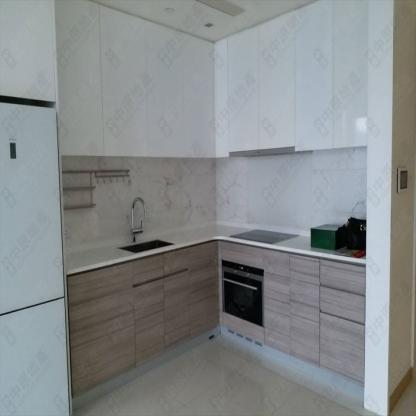Cupboard: (57, 0, 369, 156), (66, 240, 220, 398)
Exhaust Hood: (230, 146, 294, 156)
Faucet: (128, 195, 147, 238)
Fridge: (0, 101, 69, 415)
Oven: (224, 259, 264, 328)
Sink: (120, 238, 174, 253)
